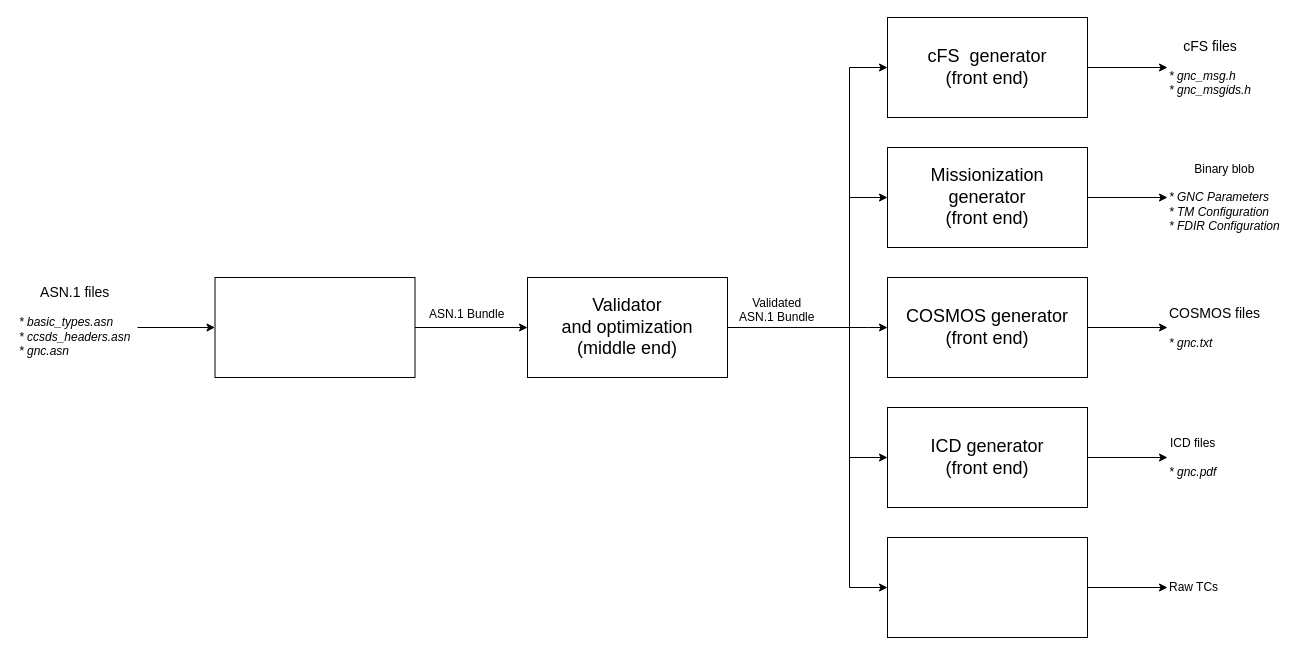
Some shapes in this 1304 by 655 pixel diagram are drawn without their labels. Each missing label, with the box of its shape:
Parser (back end): (214, 276, 415, 378)
TC generator (front end): (886, 536, 1088, 638)
